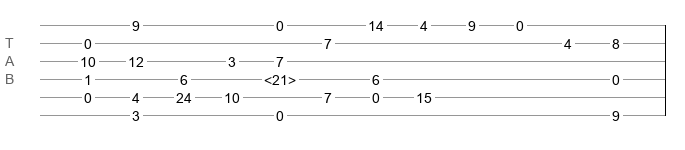0: (84, 90, 92, 100), (84, 36, 92, 46), (276, 108, 284, 118), (276, 18, 284, 28), (372, 90, 380, 100), (516, 18, 524, 28), (612, 72, 620, 82)
1: (84, 72, 92, 82)
10: (80, 54, 96, 64), (224, 90, 240, 100)
12: (128, 54, 144, 64)
14: (368, 18, 384, 28)
15: (416, 90, 432, 100)
24: (176, 90, 192, 100)
3: (132, 108, 140, 118), (228, 54, 236, 64)
4: (132, 90, 140, 100), (420, 18, 428, 28), (564, 36, 572, 46)
6: (180, 72, 188, 82), (372, 72, 380, 82)
7: (276, 54, 284, 64), (324, 90, 332, 100), (324, 36, 332, 46)
8: (612, 36, 620, 46)
9: (132, 18, 140, 28), (468, 18, 476, 28), (612, 108, 620, 118)
harmonic: (264, 72, 296, 82)
